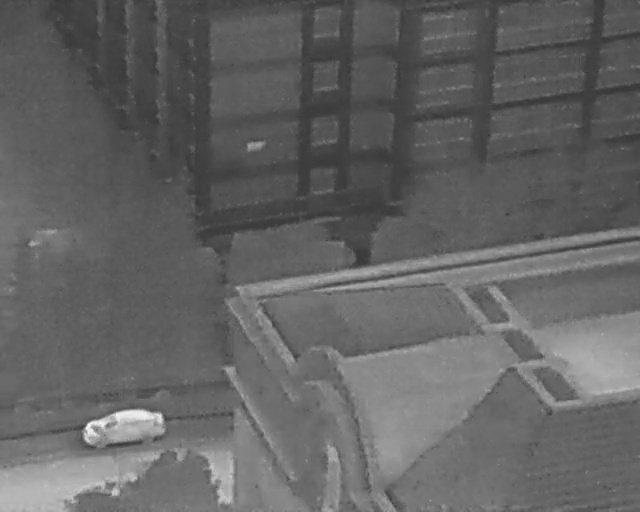Car: (80, 405, 167, 449)
